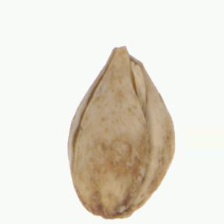L1: (109, 44, 149, 100), (81, 197, 144, 220)
L2: (66, 46, 175, 221)
